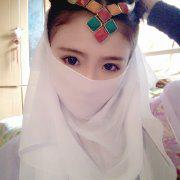OK: (48, 36, 132, 120)
